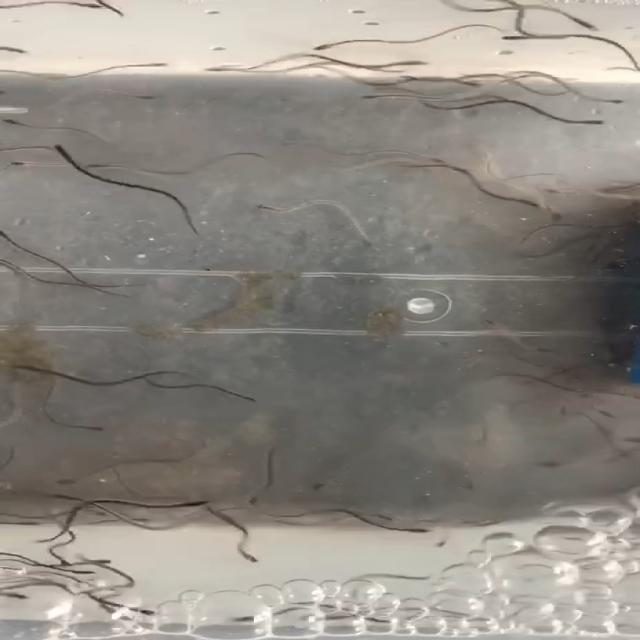active_glass_eel: (345, 503, 392, 524), (306, 34, 364, 51), (532, 209, 582, 226), (388, 525, 438, 541), (231, 607, 275, 625), (70, 564, 119, 580), (121, 603, 167, 620), (43, 140, 91, 156), (347, 87, 394, 103), (230, 386, 264, 408), (54, 546, 90, 566), (0, 585, 37, 604), (108, 514, 141, 535), (82, 419, 116, 439), (409, 538, 457, 552), (120, 89, 170, 102), (0, 153, 40, 169), (68, 558, 121, 570), (588, 113, 623, 131), (247, 486, 278, 506), (56, 466, 84, 487), (394, 57, 438, 70), (182, 489, 208, 511), (136, 58, 174, 73), (9, 356, 35, 377), (252, 197, 286, 213), (108, 502, 142, 518), (605, 97, 640, 112), (545, 398, 574, 416), (537, 454, 567, 471), (236, 554, 272, 568), (459, 70, 484, 90), (480, 320, 513, 335), (454, 478, 487, 493), (64, 0, 109, 11), (573, 15, 600, 33), (501, 346, 532, 361), (0, 44, 29, 60), (93, 610, 125, 624), (318, 479, 352, 492), (586, 398, 610, 416), (543, 181, 576, 194), (0, 115, 39, 126), (489, 34, 522, 46), (85, 160, 123, 170), (0, 227, 22, 244), (197, 64, 227, 76), (538, 201, 564, 214), (429, 155, 456, 166)
